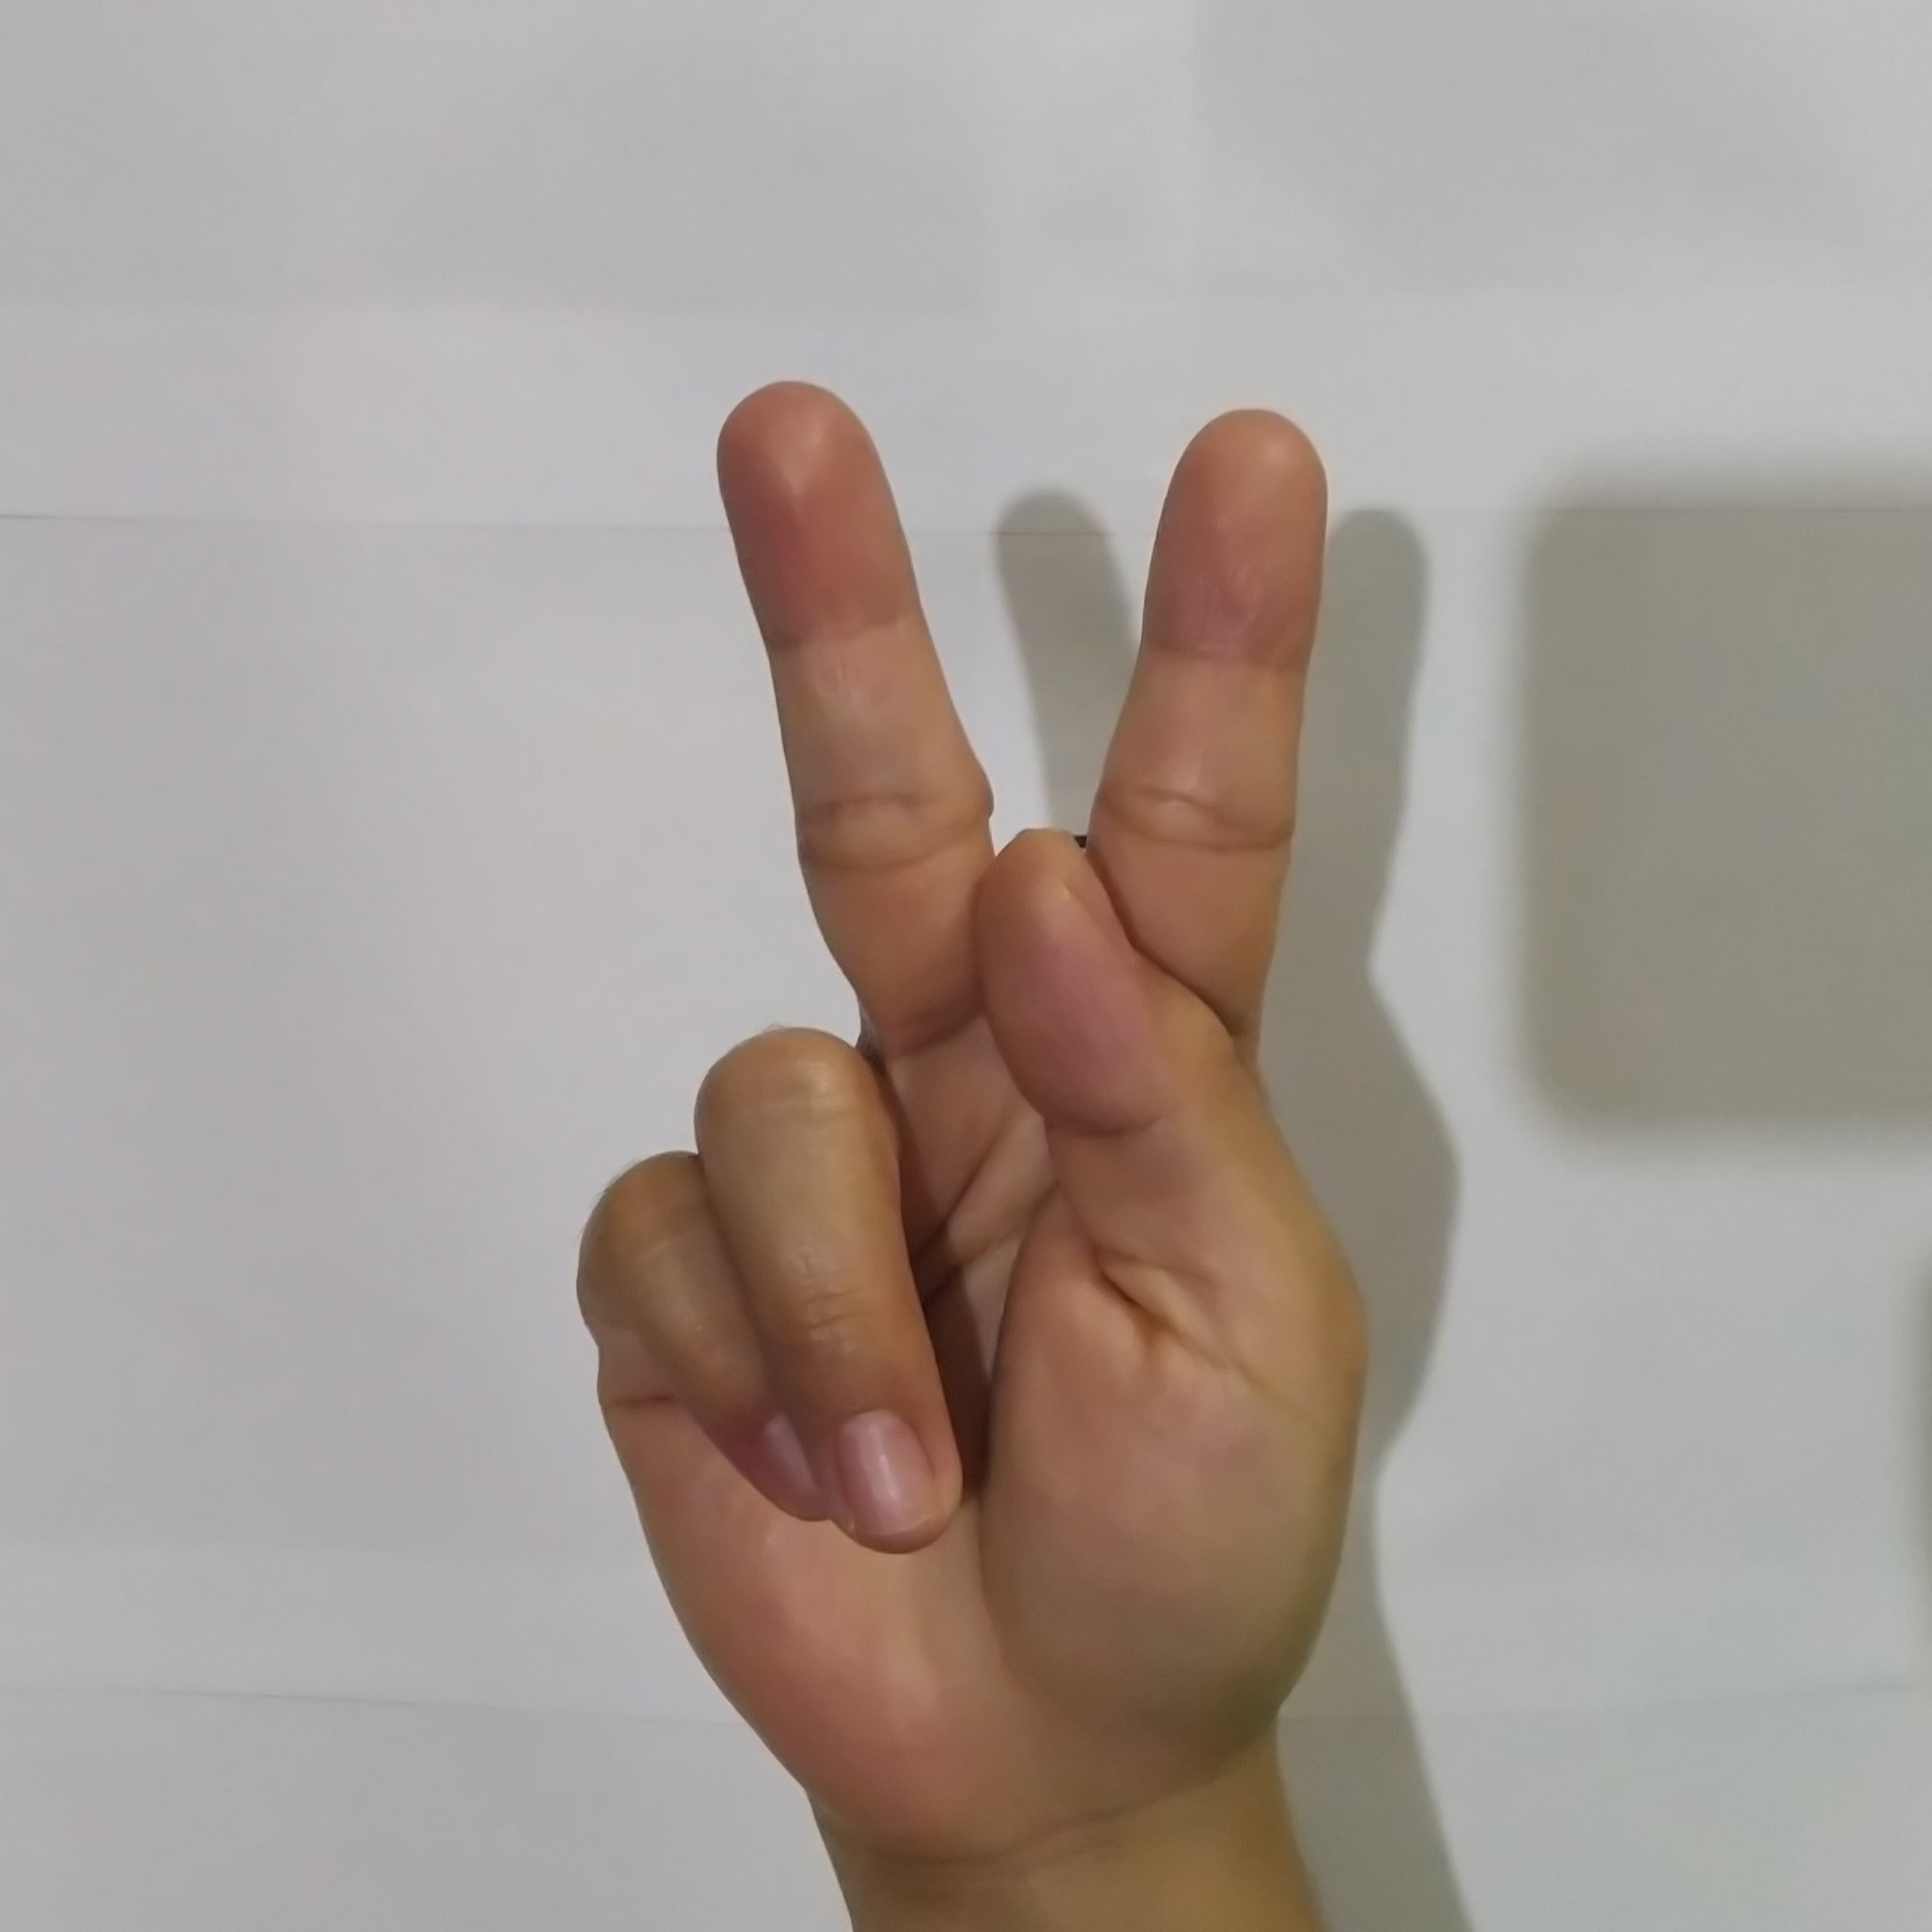K: (554, 345, 1401, 1755)
